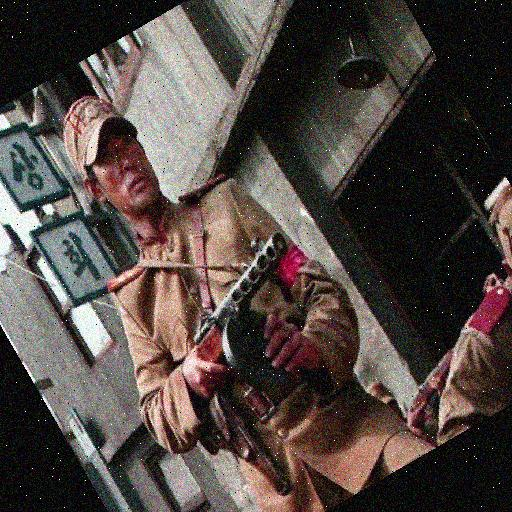north army: (50, 70, 452, 512)
